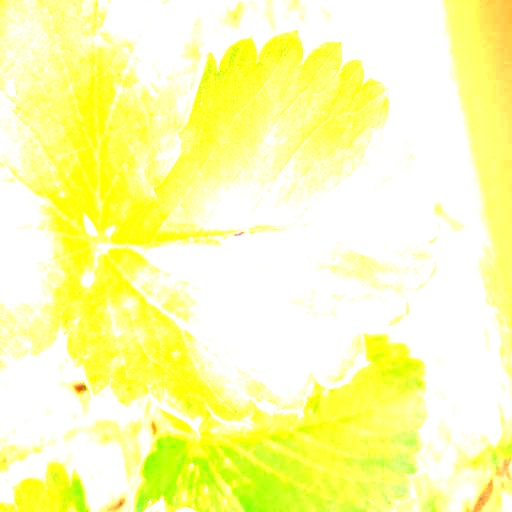Leaf Spot: (57, 27, 442, 434), (0, 89, 100, 379)
